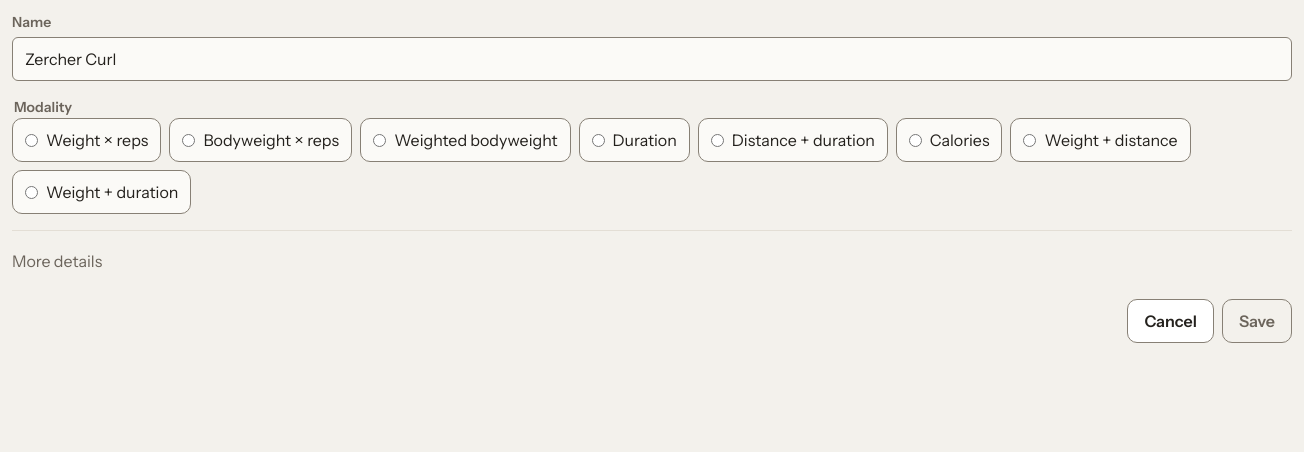
Test case: AC29 — create outcomes › 409 exercise-limit-reached → a plain message, no field marked, input intact
Click the radio button labelled "Duration".
click(598, 140)  # box [592, 134, 604, 146]
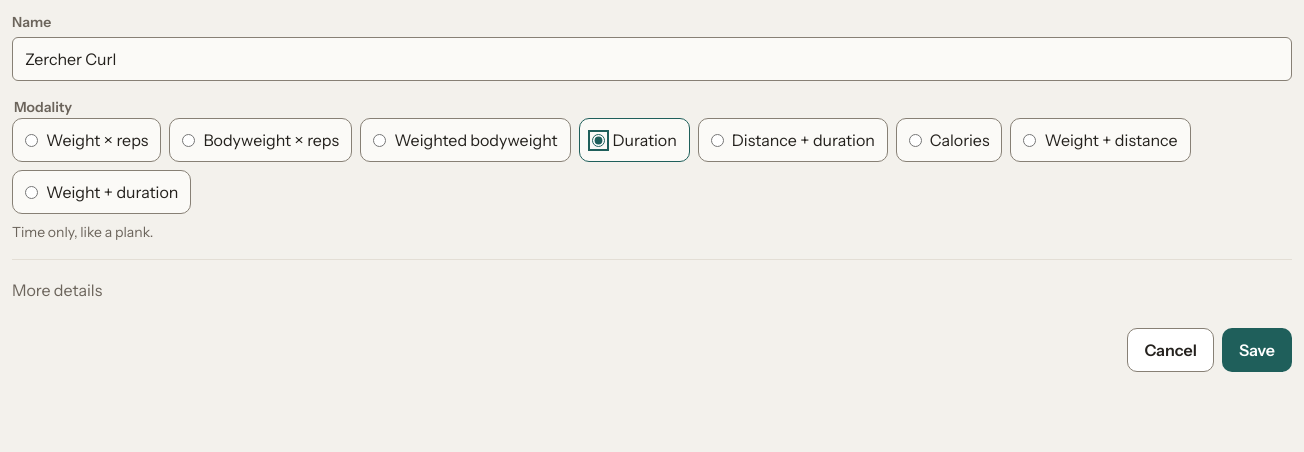
Click the button "Save".
click(1257, 350)  # box [1222, 328, 1292, 372]
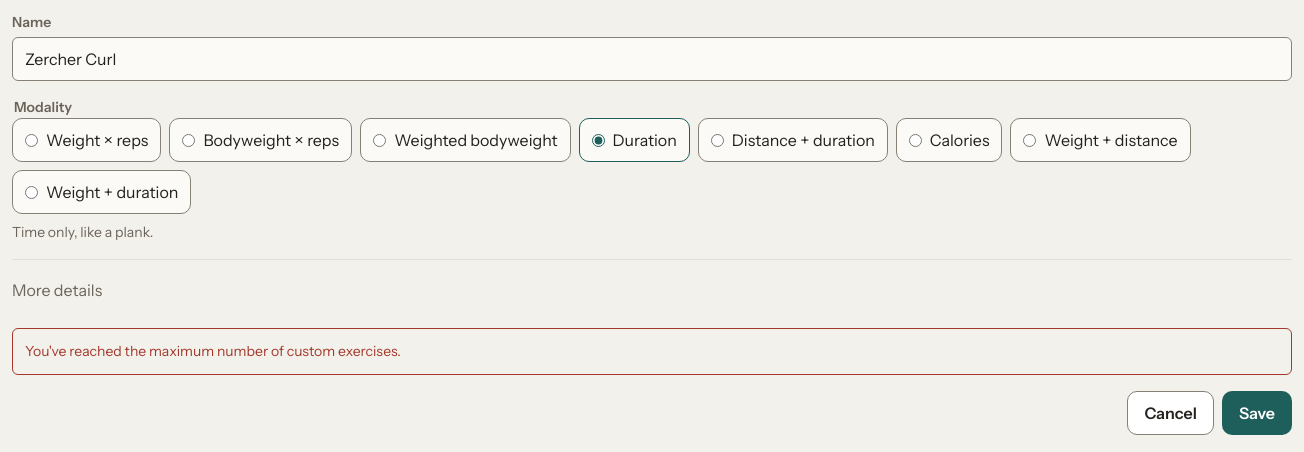
Expected: the radio button labelled "Duration" is checked, [592, 134, 604, 146]
Expected: the button "Save" is enabled, [1222, 391, 1292, 435]
Expected: the text "You've reached the maximum number of custom exercises." is shown, [12, 328, 1292, 375]
